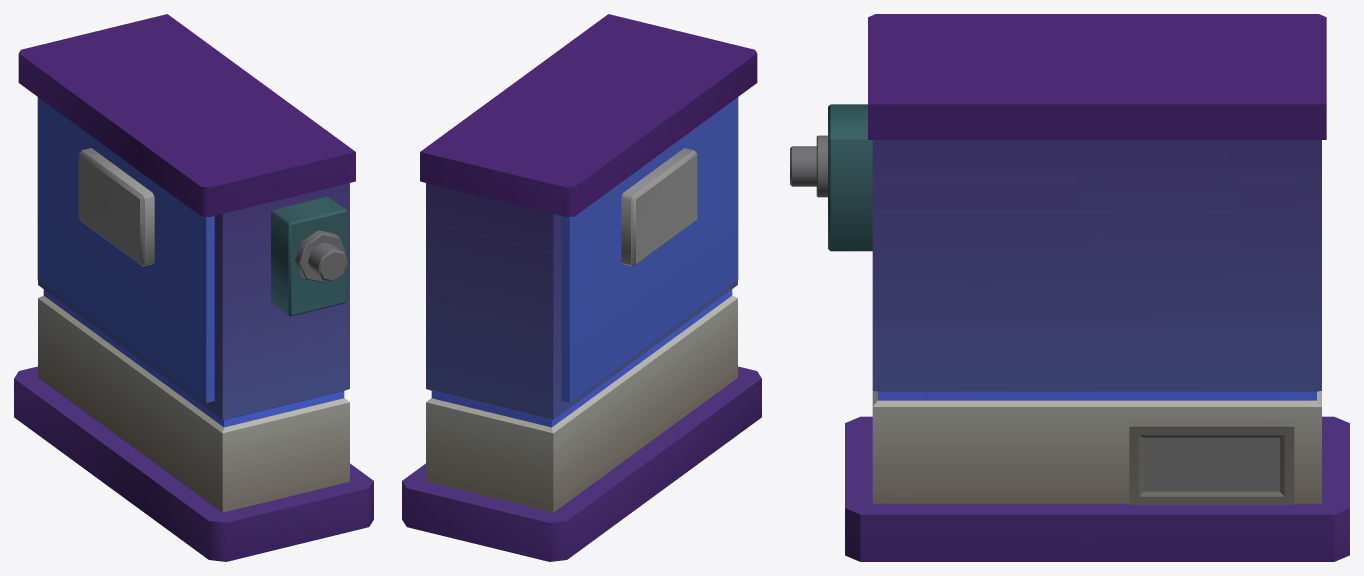
The model's file is Prop_1_A.fbx.
3 views of the same model, side by side, from view 1: azimuth 30°, elevation 25°; view 2: azimuth 150°, elevation 25°; view 3: azimuth 270°, elevation 25° (orthographic). The views are drawn at different scales.
Visible parts, largest first — view 1: Prop_1_A; view 2: Prop_1_A; view 3: Prop_1_A.
Part boxes in pixels (<box>): Prop_1_A: <box>14,14,373,561</box>; Prop_1_A: <box>402,14,761,561</box>; Prop_1_A: <box>790,14,1349,561</box>.
Size of the model in its own units: 76.56 by 161 by 182.
